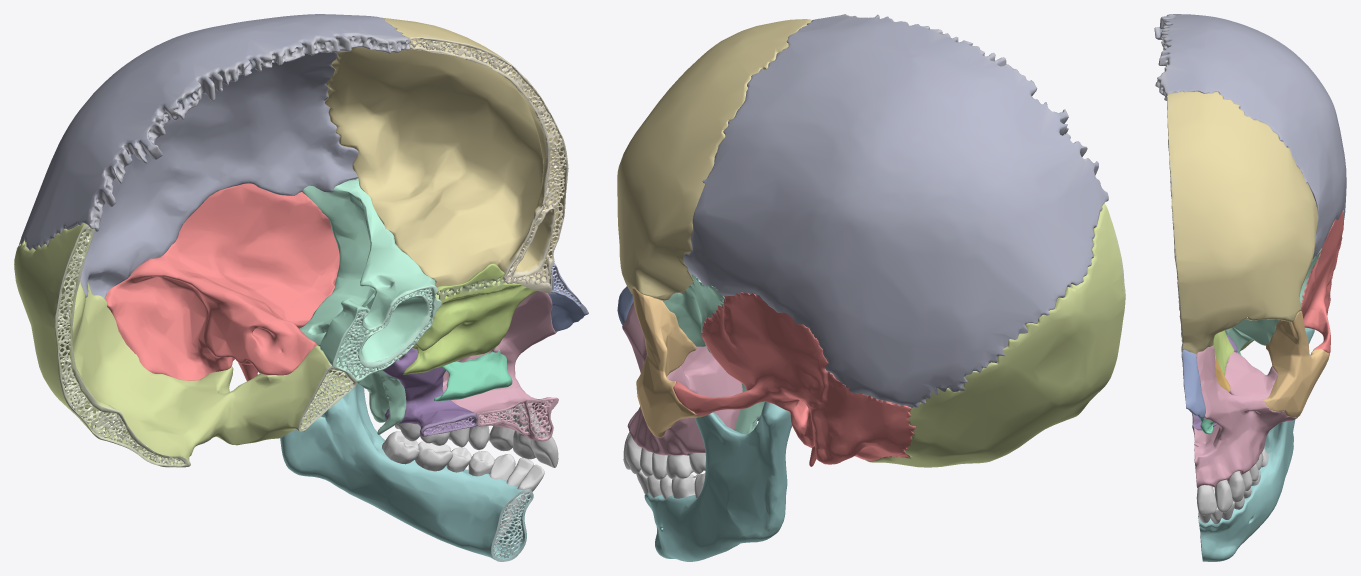
The model's file is skull.glb.
The picture shows the model from 3 angles, left to right: view 1: azimuth 30°, elevation 25°; view 2: azimuth 150°, elevation 25°; view 3: azimuth 270°, elevation 25°; orthographic projection. The views are drawn at different scales.
Parts seen in each view (by area): view 1: FJ3274_BP10199_FMA52789_Left_parietal_bone_FJ3274_BP10199_FM, FJ3200_BP9668_FMA52734_Frontal_bone1_FJ3200_BP9668_FMA52734_, FJ3281_BP9536_FMA52739_Left_temporal_bone_FJ3281_BP9536_FMA5, FJ3309_BP10180_FMA52735_Occipital_bone1_FJ3309_BP10180_FMA52, Extract13, FJ3394_BP9806_FMA52736_Sphenoid_bone_FJ3394_BP9806_FMA52736_, Extract3, FJ1261_BP5455_FMA55699_Left_first_upper_molar_tooth17_FJ1261, FJ3199_BP10084_FMA52740_Ethmoid2_FJ3199_BP10084_FMA52740_Eth, PM3D_Cube3D12, FJ3273_BP9484_FMA53656_Left_palatine_bone_FJ3273_BP9484_FMA5, FJ3263_BP10109_FMA54738_Left_inferior_nasal_concha_FJ3263_BP (+1 smaller); view 2: FJ3274_BP10199_FMA52789_Left_parietal_bone_FJ3274_BP10199_FM, FJ3309_BP10180_FMA52735_Occipital_bone1_FJ3309_BP10180_FMA52, FJ3200_BP9668_FMA52734_Frontal_bone1_FJ3200_BP9668_FMA52734_, FJ3281_BP9536_FMA52739_Left_temporal_bone_FJ3281_BP9536_FMA5, Extract13, PM3D_Cube3D12, FJ3287_BP9801_FMA52893_Left_zygomatic_bone_FJ3287_BP9801_FMA, FJ1261_BP5455_FMA55699_Left_first_upper_molar_tooth17_FJ1261, FJ3394_BP9806_FMA52736_Sphenoid_bone_FJ3394_BP9806_FMA52736_; view 3: FJ3200_BP9668_FMA52734_Frontal_bone1_FJ3200_BP9668_FMA52734_, FJ3274_BP10199_FMA52789_Left_parietal_bone_FJ3274_BP10199_FM, PM3D_Cube3D12, Extract13, FJ3287_BP9801_FMA52893_Left_zygomatic_bone_FJ3287_BP9801_FMA, FJ3281_BP9536_FMA52739_Left_temporal_bone_FJ3281_BP9536_FMA5, FJ1261_BP5455_FMA55699_Left_first_upper_molar_tooth17_FJ1261, FJ3394_BP9806_FMA52736_Sphenoid_bone_FJ3394_BP9806_FMA52736_, FJ3272_BP9837_FMA53648_Left_nasal_bone2_FJ3272_BP9837_FMA536, FJ3199_BP10084_FMA52740_Ethmoid2_FJ3199_BP10084_FMA52740_Eth.
Boxes of the visible parts, left/top/right/bottom form: FJ3274_BP10199_FMA52789_Left_parietal_bone_FJ3274_BP10199_FM: left=16, top=14, right=409, bottom=298; FJ3200_BP9668_FMA52734_Frontal_bone1_FJ3200_BP9668_FMA52734_: left=325, top=17, right=568, bottom=293; FJ3281_BP9536_FMA52739_Left_temporal_bone_FJ3281_BP9536_FMA5: left=105, top=183, right=339, bottom=381; FJ3309_BP10180_FMA52735_Occipital_bone1_FJ3309_BP10180_FMA52: left=14, top=223, right=357, bottom=467; Extract13: left=280, top=383, right=533, bottom=561; FJ3394_BP9806_FMA52736_Sphenoid_bone_FJ3394_BP9806_FMA52736_: left=299, top=178, right=441, bottom=434; Extract3: left=57, top=37, right=579, bottom=558; FJ1261_BP5455_FMA55699_Left_first_upper_molar_tooth17_FJ1261: left=382, top=404, right=558, bottom=544; FJ3199_BP10084_FMA52740_Ethmoid2_FJ3199_BP10084_FMA52740_Eth: left=403, top=263, right=536, bottom=374; PM3D_Cube3D12: left=399, top=271, right=558, bottom=441; FJ3273_BP9484_FMA53656_Left_palatine_bone_FJ3273_BP9484_FMA5: left=382, top=348, right=477, bottom=436; FJ3263_BP10109_FMA54738_Left_inferior_nasal_concha_FJ3263_BP: left=434, top=350, right=512, bottom=401; FJ3274_BP10199_FMA52789_Left_parietal_bone_FJ3274_BP10199_FM: left=683, top=14, right=1108, bottom=407; FJ3309_BP10180_FMA52735_Occipital_bone1_FJ3309_BP10180_FMA52: left=865, top=203, right=1125, bottom=467; FJ3200_BP9668_FMA52734_Frontal_bone1_FJ3200_BP9668_FMA52734_: left=617, top=19, right=811, bottom=300; FJ3281_BP9536_FMA52739_Left_temporal_bone_FJ3281_BP9536_FMA5: left=673, top=292, right=915, bottom=466; Extract13: left=644, top=402, right=792, bottom=561; PM3D_Cube3D12: left=622, top=302, right=742, bottom=455; FJ3287_BP9801_FMA52893_Left_zygomatic_bone_FJ3287_BP9801_FMA: left=632, top=288, right=702, bottom=437; FJ1261_BP5455_FMA55699_Left_first_upper_molar_tooth17_FJ1261: left=623, top=432, right=705, bottom=498; FJ3394_BP9806_FMA52736_Sphenoid_bone_FJ3394_BP9806_FMA52736_: left=663, top=274, right=764, bottom=434; FJ3200_BP9668_FMA52734_Frontal_bone1_FJ3200_BP9668_FMA52734_: left=1167, top=91, right=1318, bottom=354; FJ3274_BP10199_FMA52789_Left_parietal_bone_FJ3274_BP10199_FM: left=1154, top=14, right=1346, bottom=259; PM3D_Cube3D12: left=1194, top=345, right=1297, bottom=487; Extract13: left=1198, top=327, right=1314, bottom=561; FJ3287_BP9801_FMA52893_Left_zygomatic_bone_FJ3287_BP9801_FMA: left=1264, top=311, right=1329, bottom=417; FJ3281_BP9536_FMA52739_Left_temporal_bone_FJ3281_BP9536_FMA5: left=1301, top=210, right=1343, bottom=353; FJ1261_BP5455_FMA55699_Left_first_upper_molar_tooth17_FJ1261: left=1196, top=448, right=1268, bottom=524; FJ3394_BP9806_FMA52736_Sphenoid_bone_FJ3394_BP9806_FMA52736_: left=1225, top=248, right=1321, bottom=354; FJ3272_BP9837_FMA53648_Left_nasal_bone2_FJ3272_BP9837_FMA536: left=1181, top=349, right=1205, bottom=418; FJ3199_BP10084_FMA52740_Ethmoid2_FJ3199_BP10084_FMA52740_Eth: left=1213, top=330, right=1234, bottom=375.
Bounding box in the file's own units: 206 × 218 × 86.35.
